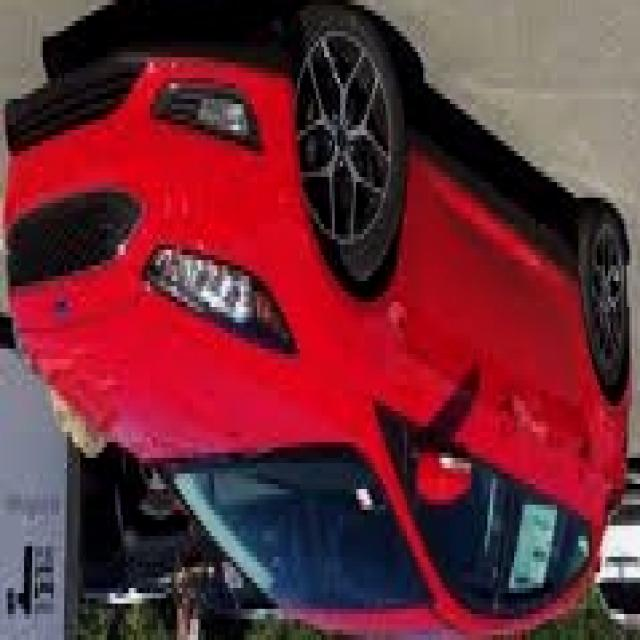red: (10, 47, 640, 640)
